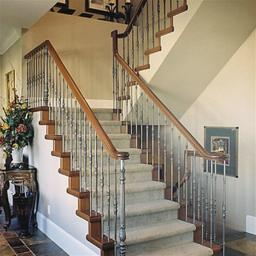Escaleras: (44, 62, 219, 255), (107, 4, 212, 111)
